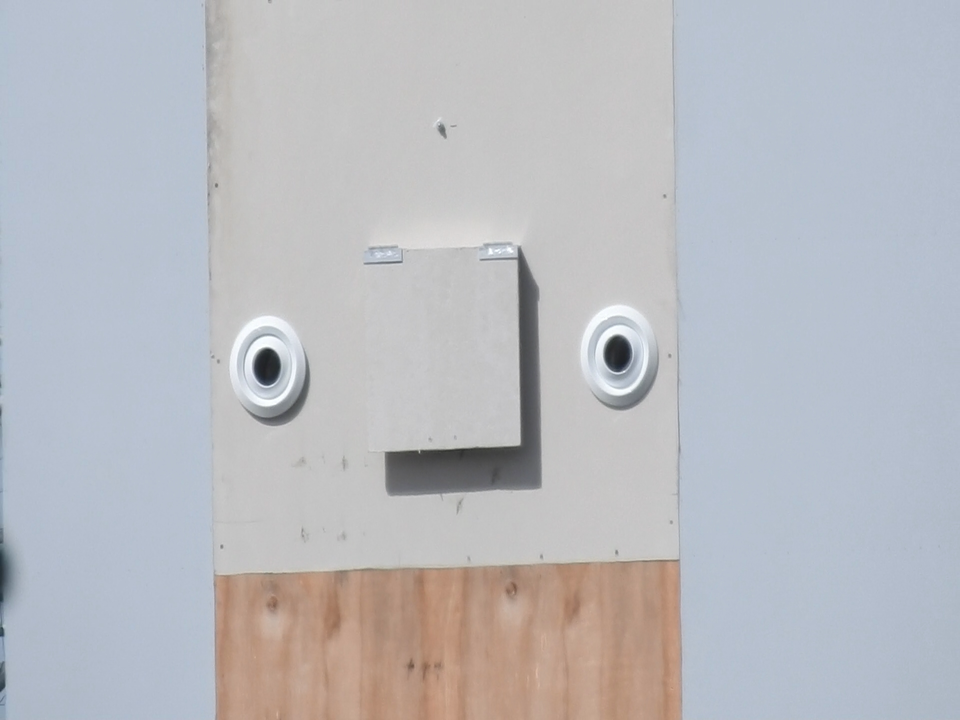facade: (228, 244, 660, 454)
